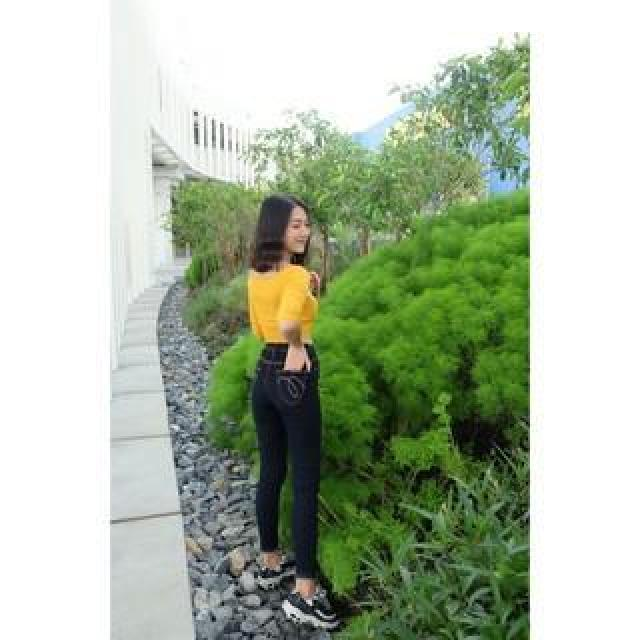Tshirt: (249, 263, 325, 355)
pants: (248, 341, 332, 575)
